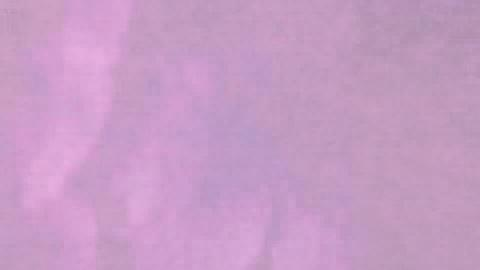tomato: (339, 73, 478, 268)
